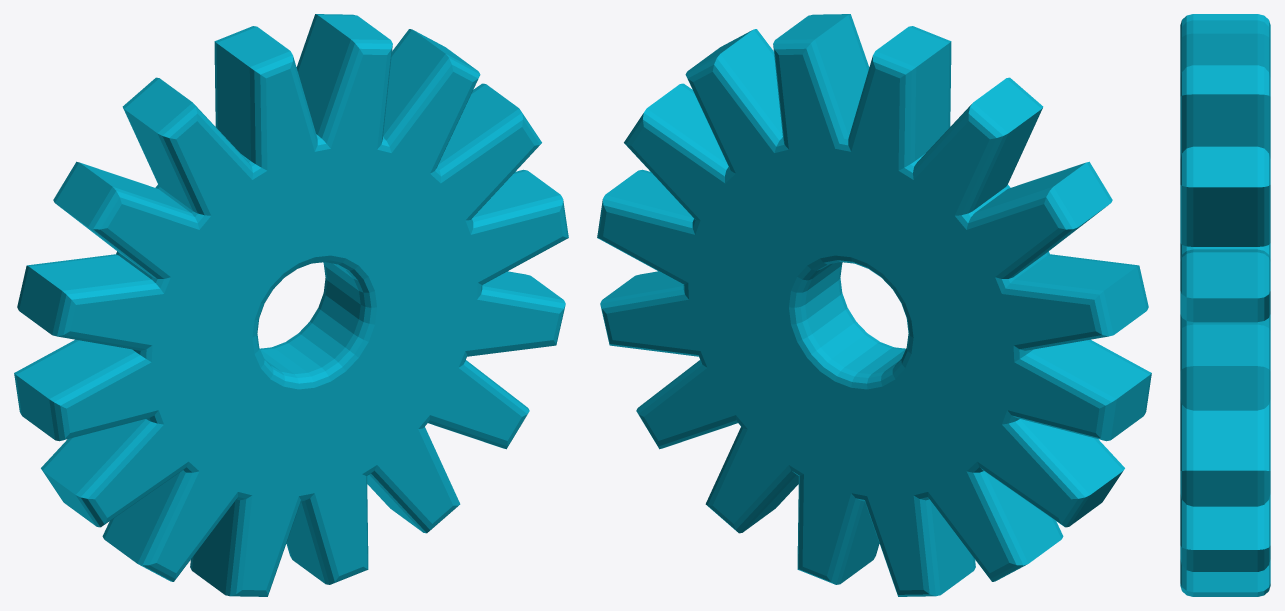
Rendered from cad-gear.glb.
3 renders of one model, left to right at view 1: azimuth 30°, elevation 25°; view 2: azimuth 150°, elevation 25°; view 3: azimuth 270°, elevation 25°, orthographic. The views are drawn at different scales.
Size of the model in its own units: 0.5398 by 0.5398 by 0.084.
